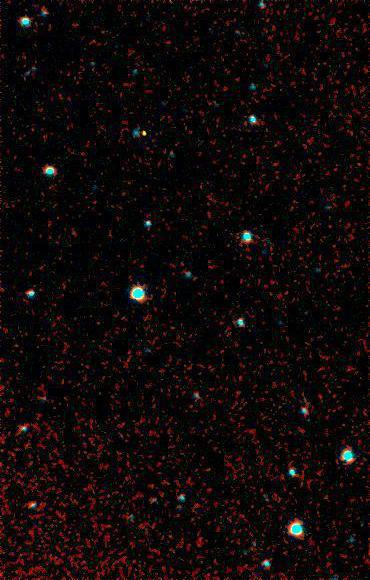star: (131, 120, 161, 150)
